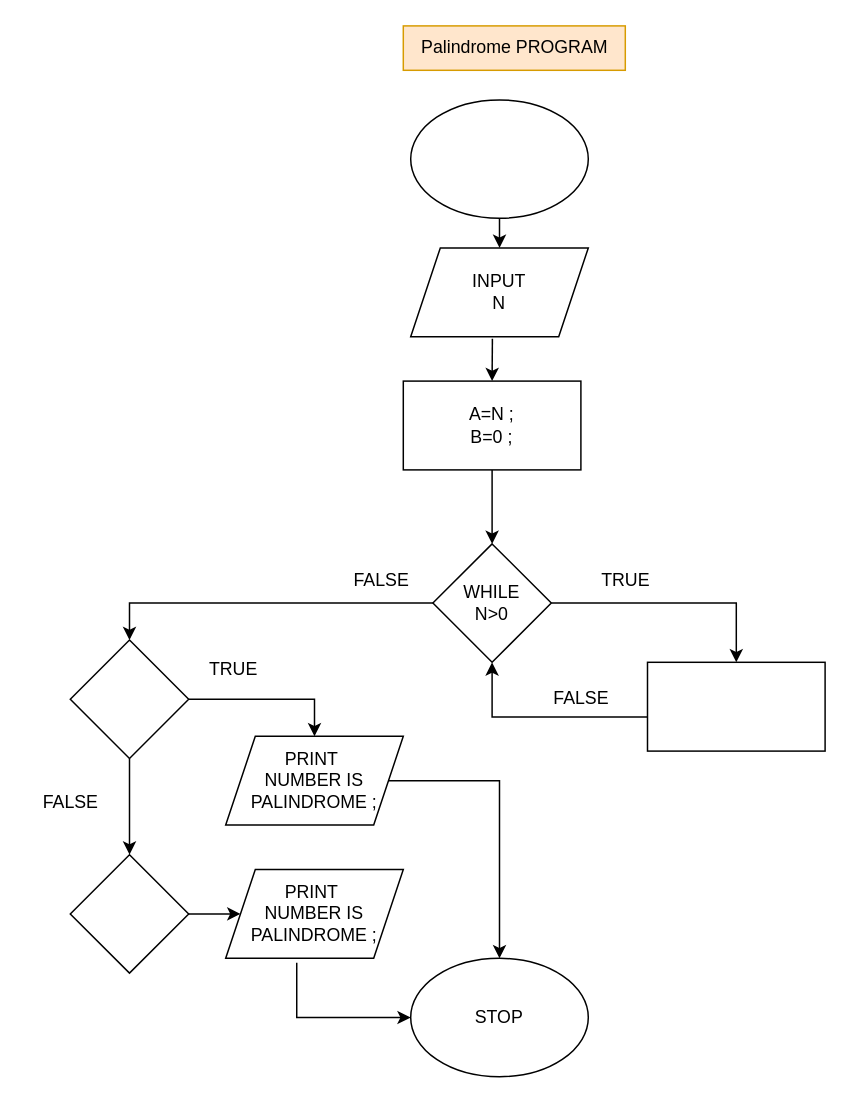
This 851x1103 diagram has some shape labels left out. Here are the shapes that lost their labels. From the top down, the centre of each, then its label:
At [498,158]: "START".
At [129,698]: "IF A == B".
At [735,706]: "C = N%10 N = N/10 B = B*10 +C".
At [129,913]: "ELSE".
